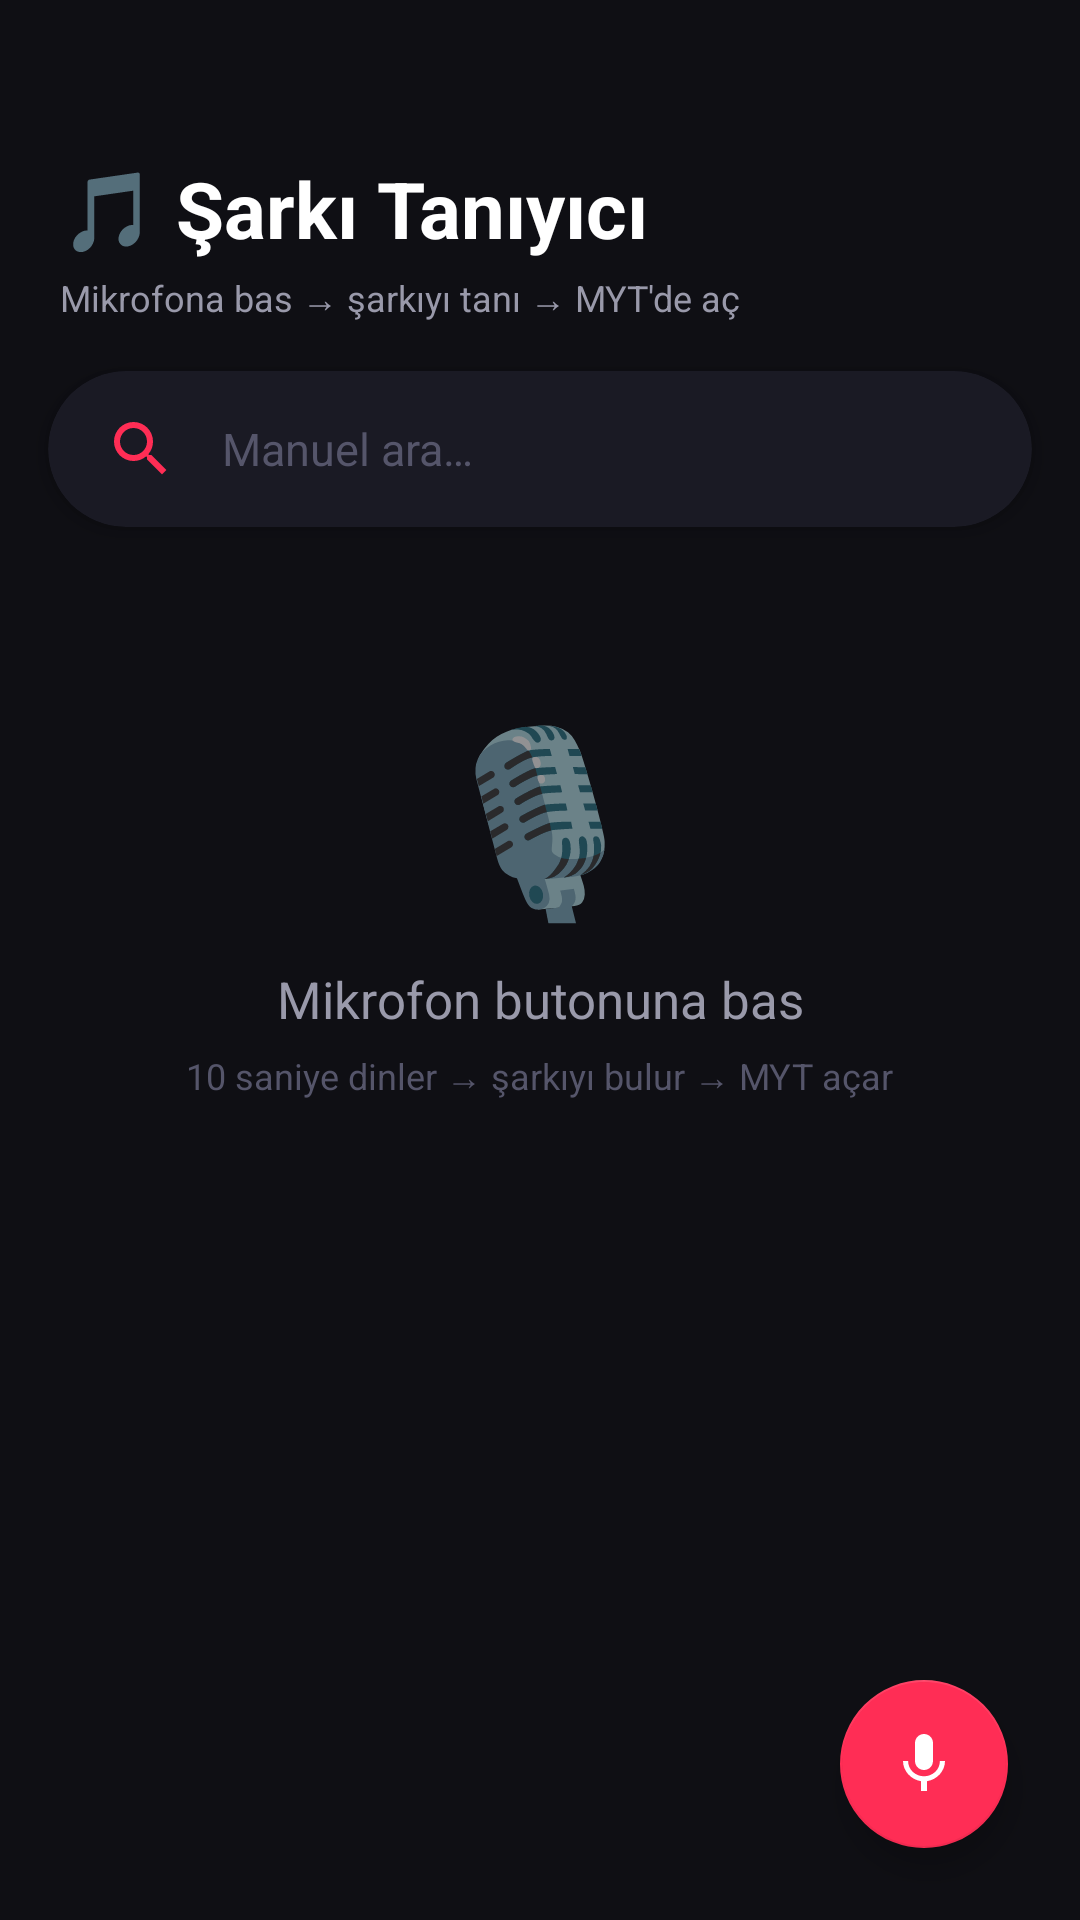

Screen size 1080 × 1920. Icon name, then its center in pixels as point (x, y):
Şarkı Dinle: point (924, 1764)
